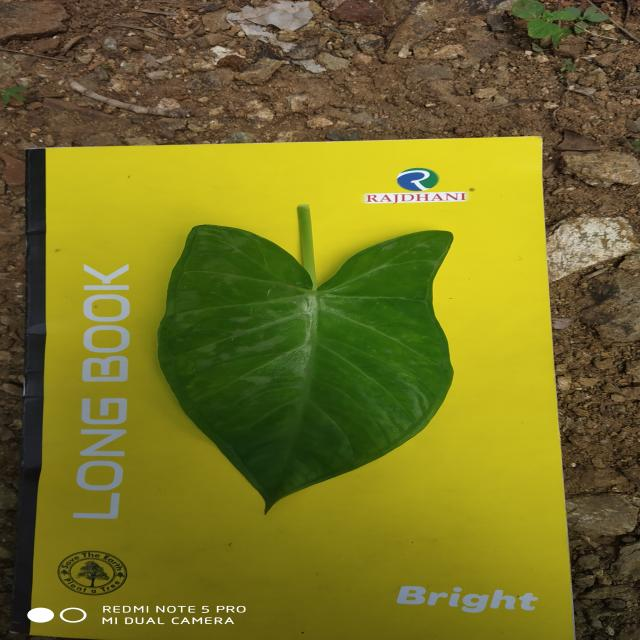taro: (158, 206, 453, 510)
